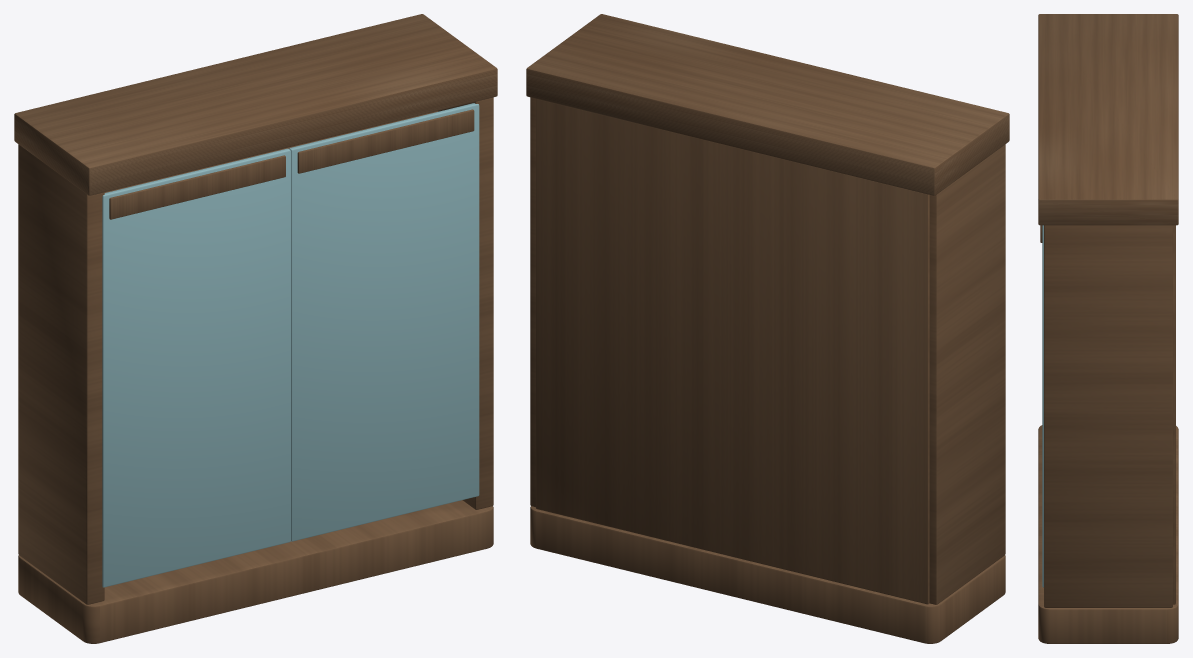
Rendered from golf_club_storage_high_end.glb.
The picture shows the model from 3 angles, left to right: view 1: azimuth 30°, elevation 25°; view 2: azimuth 150°, elevation 25°; view 3: azimuth 270°, elevation 25°; orthographic projection. The views are drawn at different scales.
Visible parts, largest first — view 1: ClubStorage_GlassDoor_L, ClubStorage_GlassDoor_R, ClubStorage_Top, ClubStorage_Side_-1, ClubStorage_Plinth, ClubStorage_Side_1, ClubStorage_DoorFrame_R, ClubStorage_DoorFrame_L; view 2: ClubStorage_Back, ClubStorage_Top, ClubStorage_Side_-1, ClubStorage_Plinth, ClubStorage_Side_1; view 3: ClubStorage_Side_1, ClubStorage_Top, ClubStorage_Plinth, ClubStorage_Back, ClubStorage_GlassDoor_R.
Part boxes in pixels (box(x1,y1,x2,y2)): ClubStorage_GlassDoor_L: box(102, 148, 290, 587); ClubStorage_GlassDoor_R: box(289, 103, 479, 541); ClubStorage_Top: box(14, 14, 497, 195); ClubStorage_Side_-1: box(18, 144, 104, 604); ClubStorage_Plinth: box(18, 500, 493, 643); ClubStorage_Side_1: box(438, 97, 493, 509); ClubStorage_DoorFrame_R: box(297, 109, 474, 173); ClubStorage_DoorFrame_L: box(109, 155, 285, 219); ClubStorage_Back: box(536, 99, 929, 604); ClubStorage_Top: box(526, 14, 1009, 195); ClubStorage_Side_-1: box(929, 144, 1005, 604); ClubStorage_Plinth: box(530, 506, 1005, 643); ClubStorage_Side_1: box(530, 97, 535, 507); ClubStorage_Side_1: box(1044, 225, 1172, 607); ClubStorage_Top: box(1038, 14, 1178, 225); ClubStorage_Plinth: box(1038, 425, 1178, 643); ClubStorage_Back: box(1173, 225, 1175, 604); ClubStorage_GlassDoor_R: box(1042, 225, 1043, 587).
Size of what is drawn, in the model's own units: 1.88 by 2.1 by 0.6.
5 materials, 1 textured.
